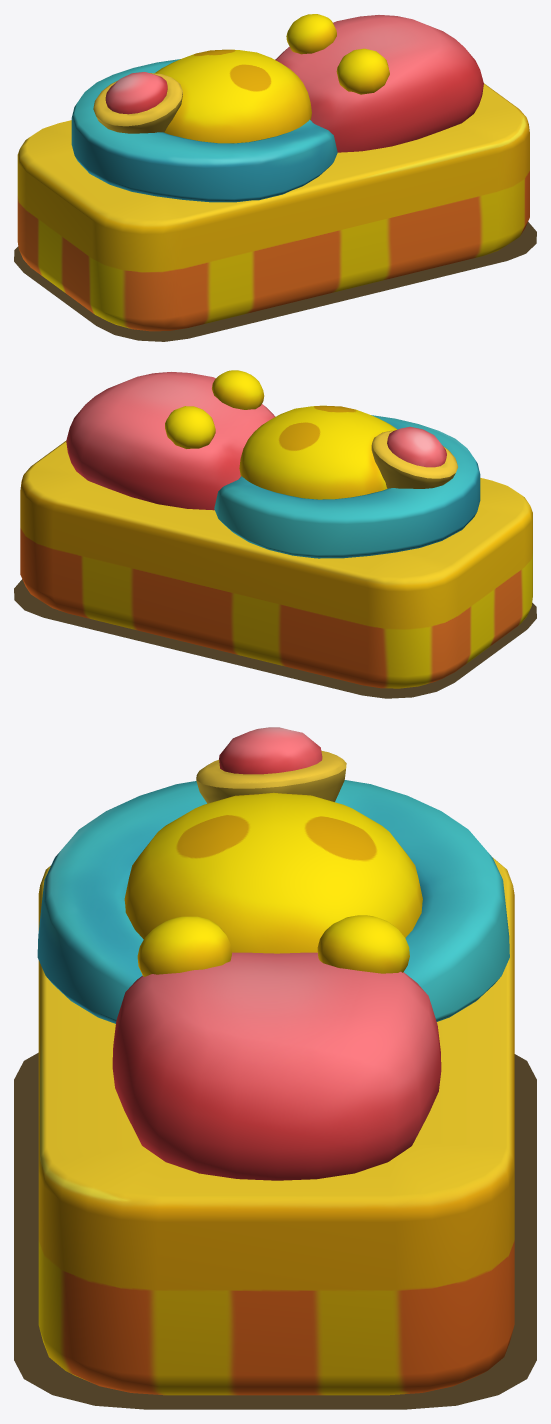
The model's file is E_Coffin.fbx.
3 views of the same model, one above another, from view 1: azimuth 30°, elevation 25°; view 2: azimuth 150°, elevation 25°; view 3: azimuth 270°, elevation 25° (orthographic). The views are drawn at different scales.
Visible parts, largest first — view 1: E_Coffin_main, E_Coffin_shadow; view 2: E_Coffin_main, E_Coffin_shadow; view 3: E_Coffin_main, E_Coffin_shadow.
Boxes of the visible parts, <box> form: E_Coffin_main: <box>17,14,529,331</box>; E_Coffin_shadow: <box>14,222,536,341</box>; E_Coffin_main: <box>20,370,532,688</box>; E_Coffin_shadow: <box>14,579,536,698</box>; E_Coffin_main: <box>37,727,514,1395</box>; E_Coffin_shadow: <box>14,1052,536,1409</box>.
Size of the model in its own units: 205 by 92.61 by 119.
